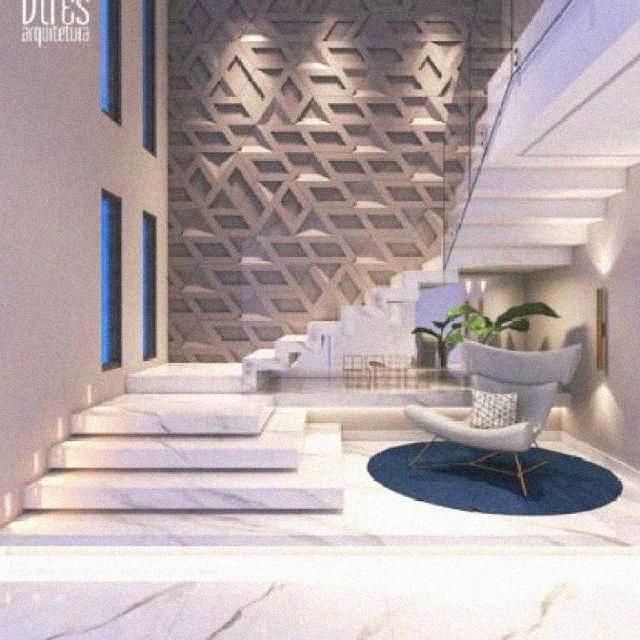stair: (47, 230, 444, 546)
